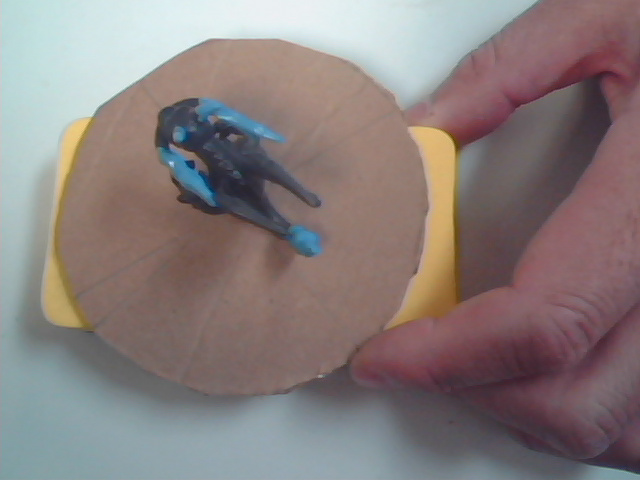charizard: (137, 80, 363, 292)
